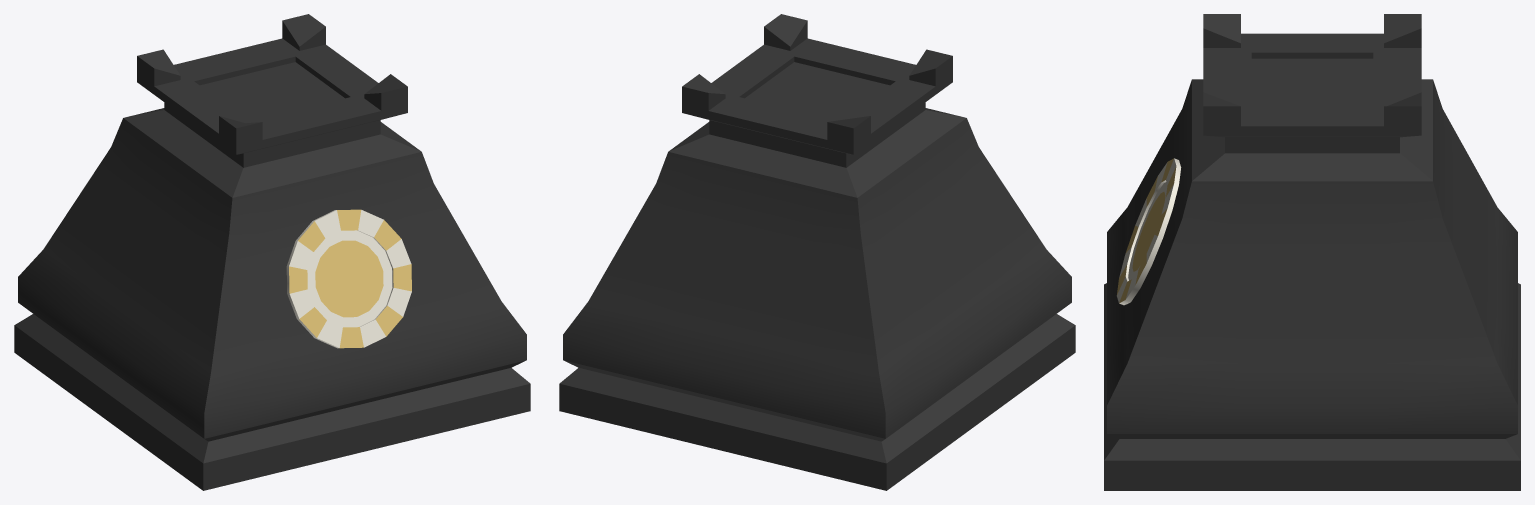
The model's file is Telefon.fbx.
The picture shows the model from 3 angles, left to right: view 1: azimuth 30°, elevation 25°; view 2: azimuth 150°, elevation 25°; view 3: azimuth 270°, elevation 25°; orthographic projection. The views are drawn at different scales.
Visible parts, largest first — view 1: Telefon; view 2: Telefon; view 3: Telefon.
Boxes of the visible parts, <box> form: Telefon: <box>14,14,530,490</box>; Telefon: <box>559,14,1075,490</box>; Telefon: <box>1104,14,1520,490</box>.
Size of the model in its own units: 23.92 by 21.7 by 23.92.
